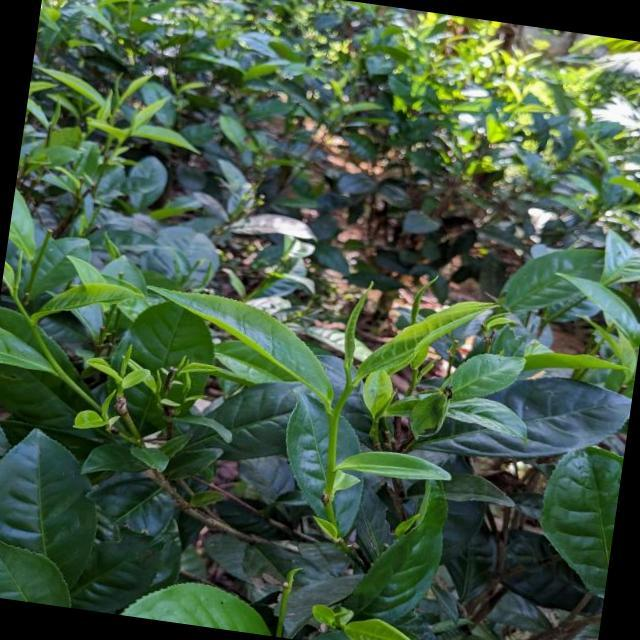Stem: (330, 411, 338, 423), (13, 295, 19, 301), (413, 370, 417, 375)
